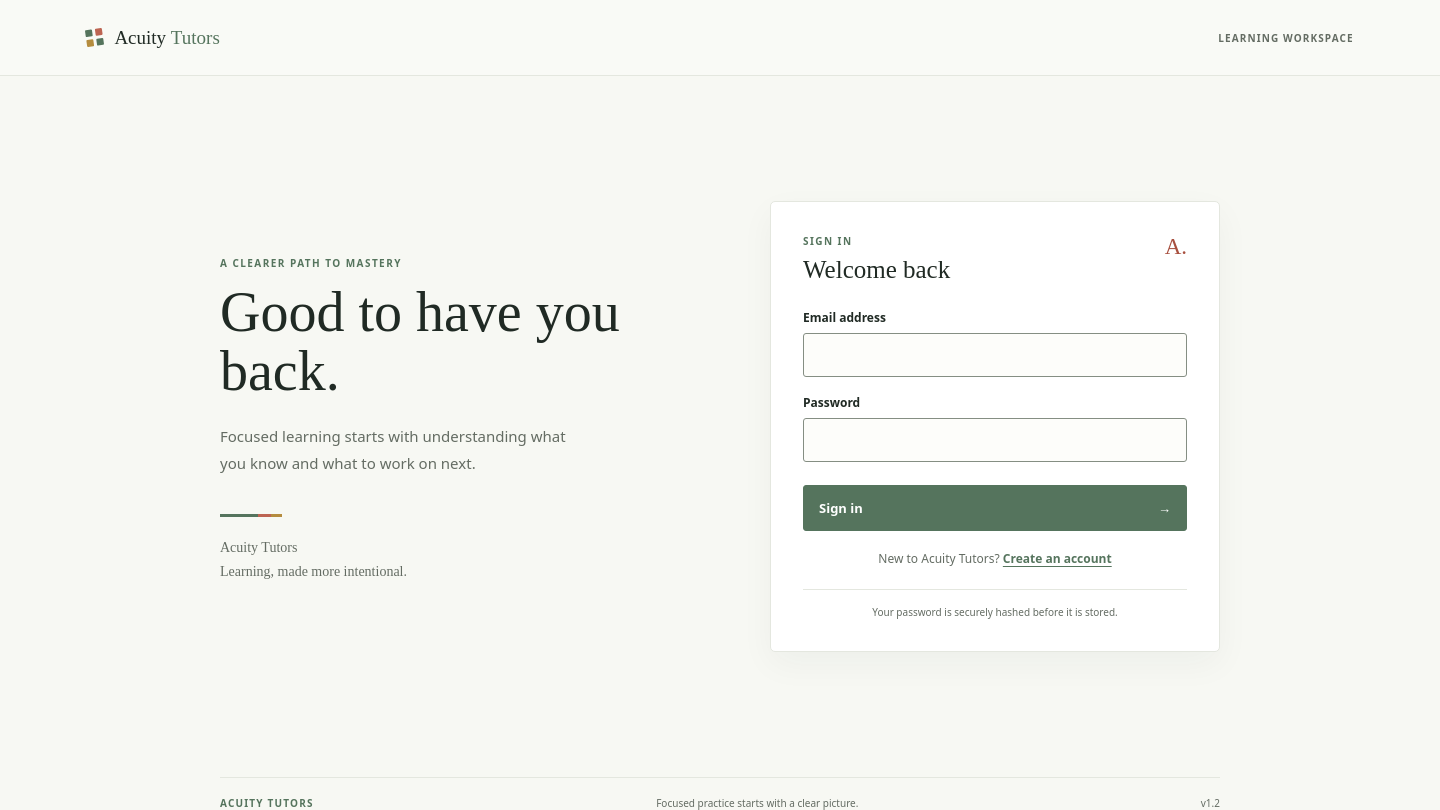
A11Y: forms › invalid fields are marked, linked to their messages, summarised in an alert, and focused
Expected: the heading "Welcome back" is shown, [803, 256, 950, 284]
Click the button "Sign in →" at (841, 508), box [803, 485, 1187, 531]
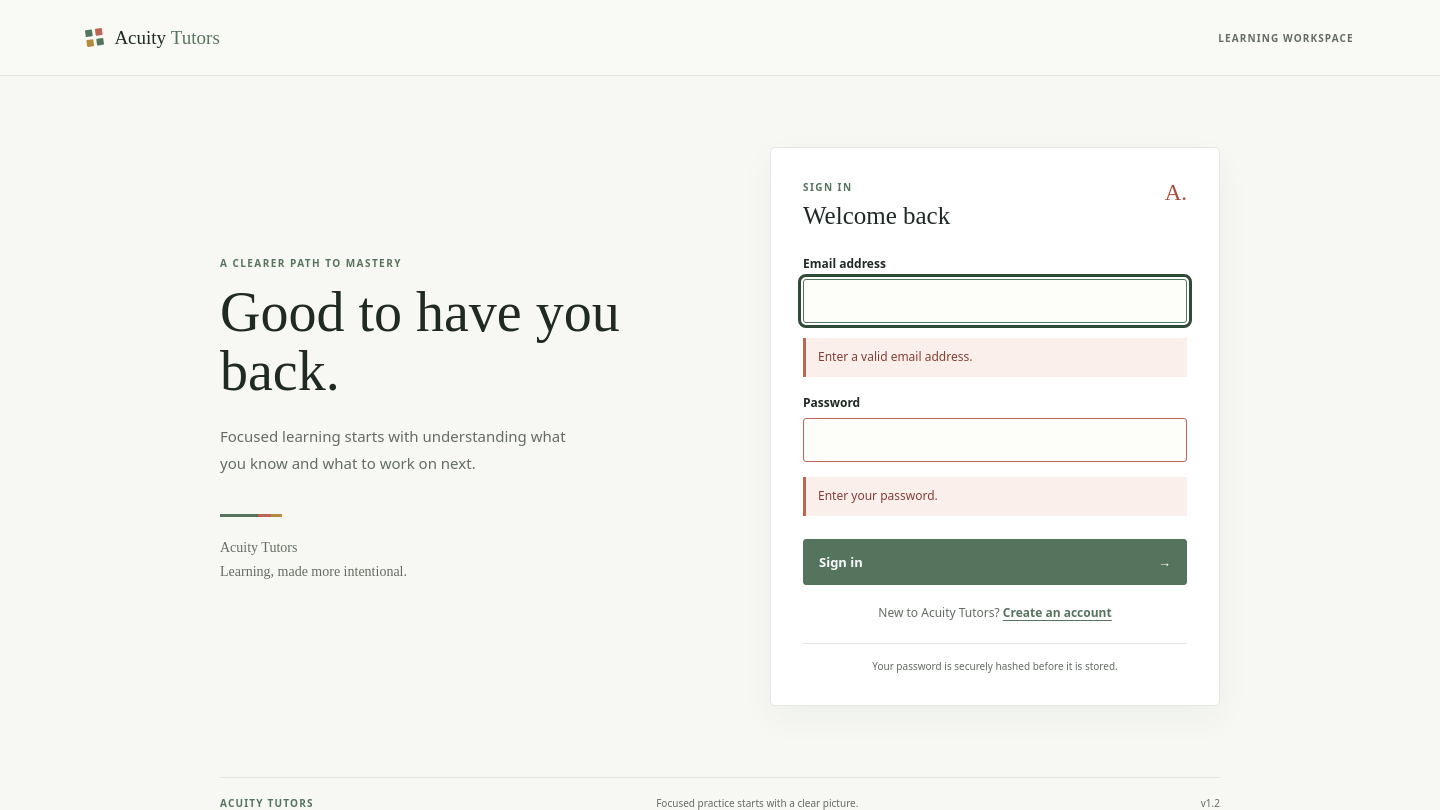
Result: the text with id "email-error" reads "Enter a valid email address." at [818, 348, 972, 365]
Result: the text "Enter your password." is shown at [803, 477, 1187, 516]
